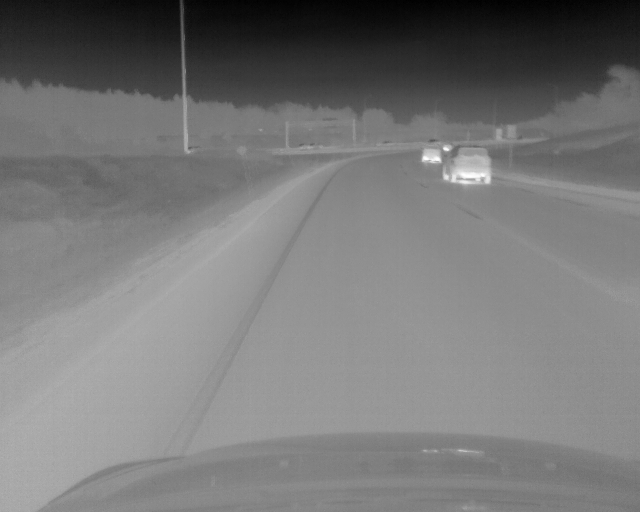car: (442, 144, 492, 183), (421, 148, 442, 163), (444, 142, 454, 151)
